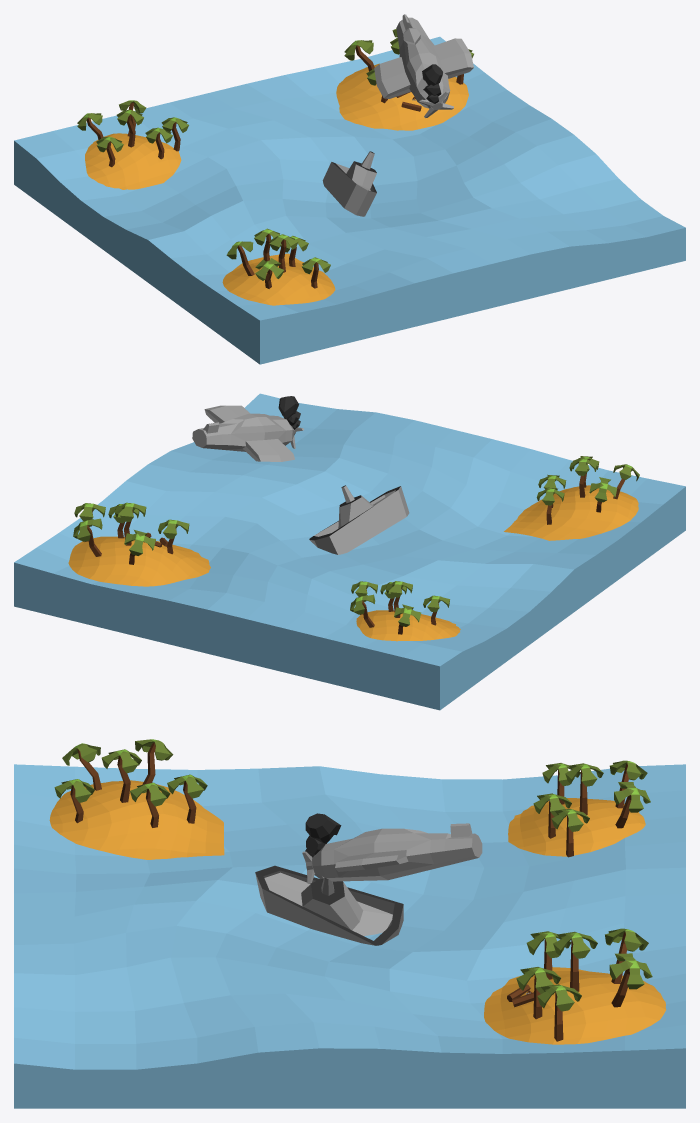
File: TRIANGULO.fbx
The picture shows the model from 3 angles, top to bottom: view 1: azimuth 30°, elevation 25°; view 2: azimuth 150°, elevation 25°; view 3: azimuth 270°, elevation 25°; orthographic projection. The views are drawn at different scales.
Parts seen in each view (by area): view 1: ferias.004; view 2: ferias.004; view 3: ferias.004.
Boxes of the visible parts, x1=… form: ferias.004: x1=14, y1=14, x2=685, y2=364; ferias.004: x1=14, y1=393, x2=685, y2=710; ferias.004: x1=14, y1=739, x2=685, y2=1108.
Size of the model in its own units: 432 by 148 by 432.
